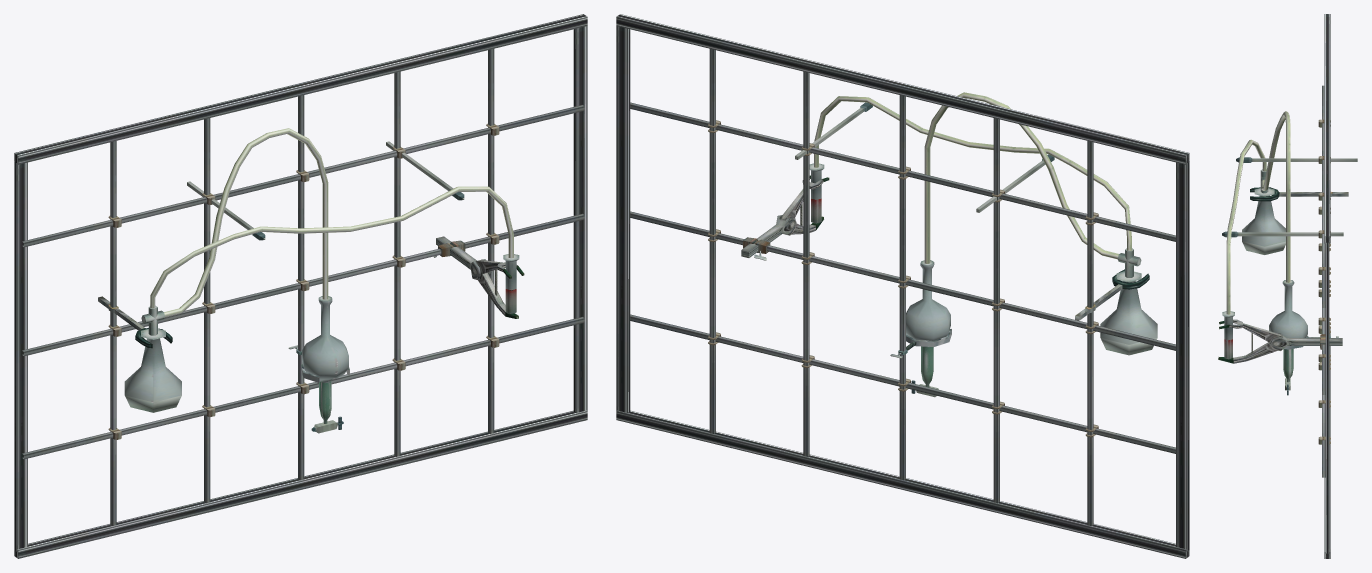
Rendered from chem_lab_rack.fbx.
3 renders of one model, left to right at view 1: azimuth 30°, elevation 25°; view 2: azimuth 150°, elevation 25°; view 3: azimuth 270°, elevation 25°, orthographic. The views are drawn at different scales.
Parts seen in each view (by area): view 1: mesh_0, mesh_1; view 2: mesh_0, mesh_1; view 3: mesh_0, mesh_1.
Part boxes in pixels (x1,y1,x2,y2): mesh_0: [14, 14, 587, 558]; mesh_1: [124, 254, 519, 423]; mesh_0: [616, 14, 1189, 558]; mesh_1: [809, 163, 1157, 387]; mesh_0: [1218, 14, 1357, 558]; mesh_1: [1222, 169, 1307, 382].
Size of the model in its own units: 200 by 135 by 52.79.
Materials: 2 (2 with a texture image).
